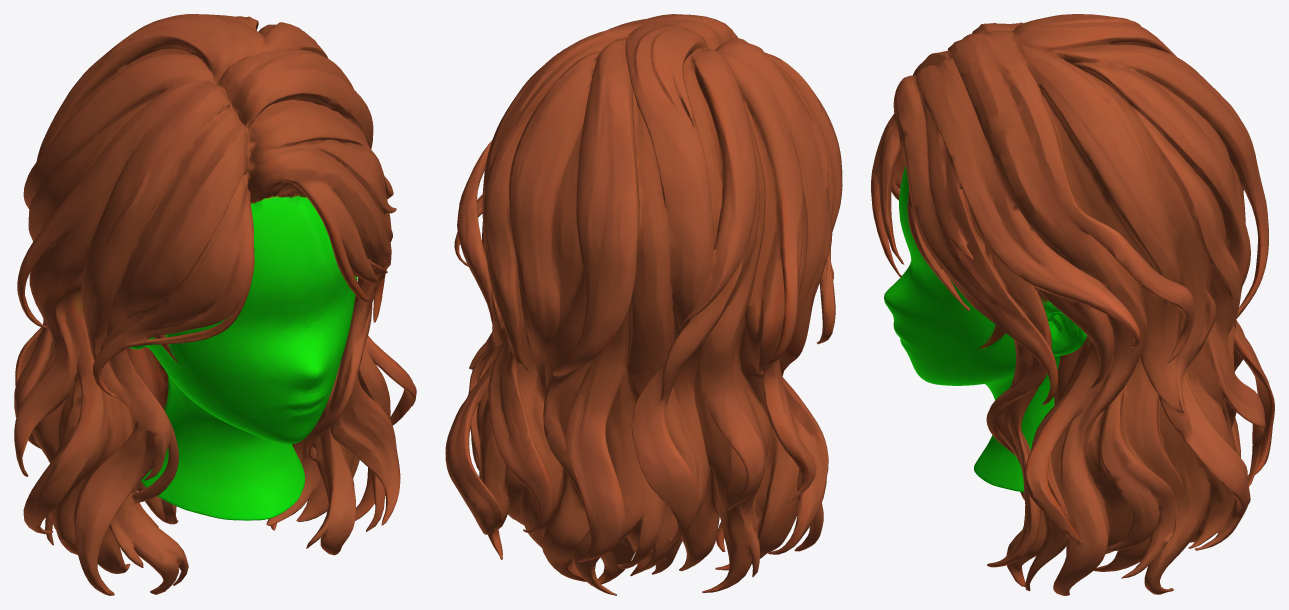
The model's file is hair-nagi-long-v2.glb.
3 renders of one model, left to right at view 1: azimuth 30°, elevation 25°; view 2: azimuth 150°, elevation 25°; view 3: azimuth 270°, elevation 25°, orthographic. The views are drawn at different scales.
Visible parts, largest first — view 1: tripo_node_b6e71912-d7df-4e87-a4ad-c2fb0a727e71; view 2: tripo_node_b6e71912-d7df-4e87-a4ad-c2fb0a727e71; view 3: tripo_node_b6e71912-d7df-4e87-a4ad-c2fb0a727e71.
Part boxes in pixels (x1,y1,x2,y2): tripo_node_b6e71912-d7df-4e87-a4ad-c2fb0a727e71: (14,14,416,595); tripo_node_b6e71912-d7df-4e87-a4ad-c2fb0a727e71: (445,14,842,595); tripo_node_b6e71912-d7df-4e87-a4ad-c2fb0a727e71: (871,14,1274,595).
Bounding box in the file's own units: 0.7016 × 0.9803 × 0.687.
Materials: 1 (1 with a texture image).
